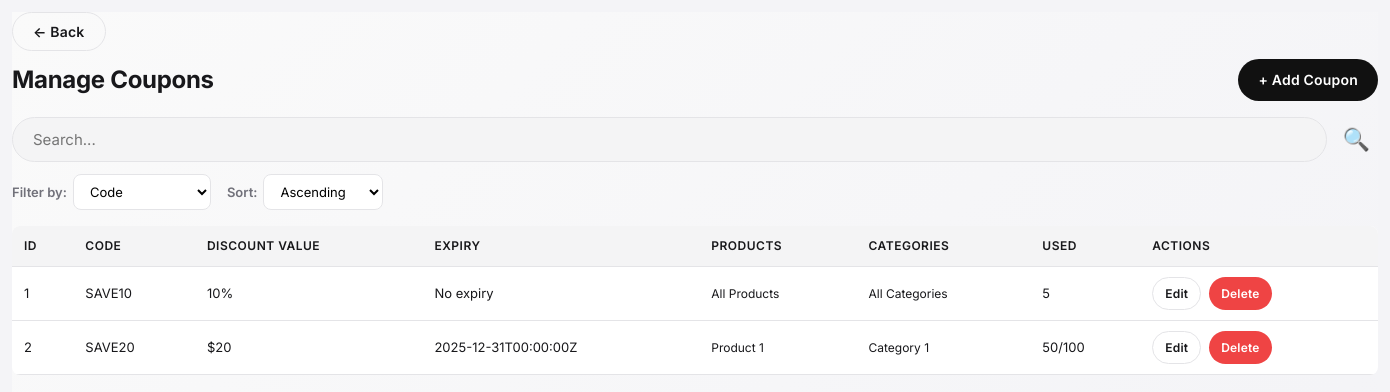
Test case: AdminCoupons › Search › should filter coupons by search term
In the field with placeholder "Search...": point(669, 140) 12,117 -> 1326,162, type "SAVE10"
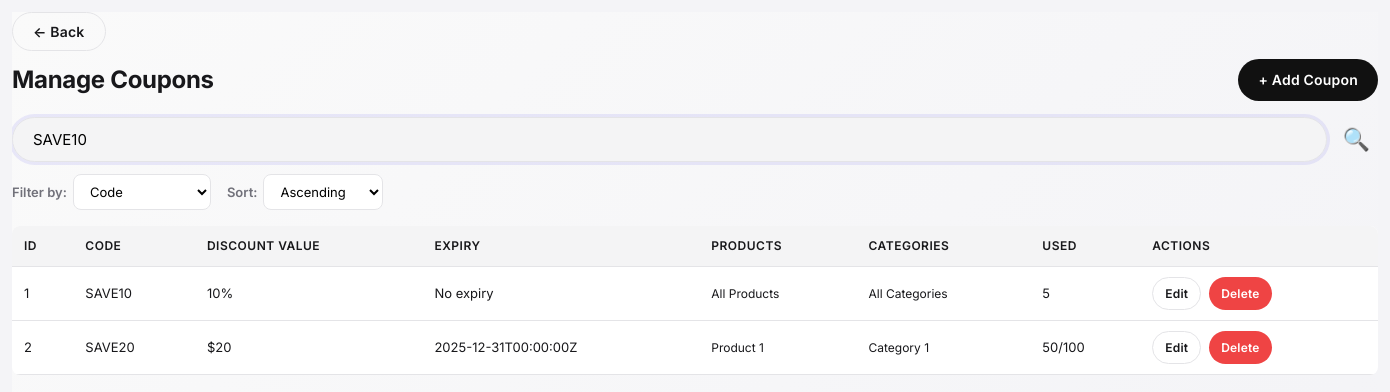
Click the button "🔍": point(1356, 140) 1334,117 -> 1378,162
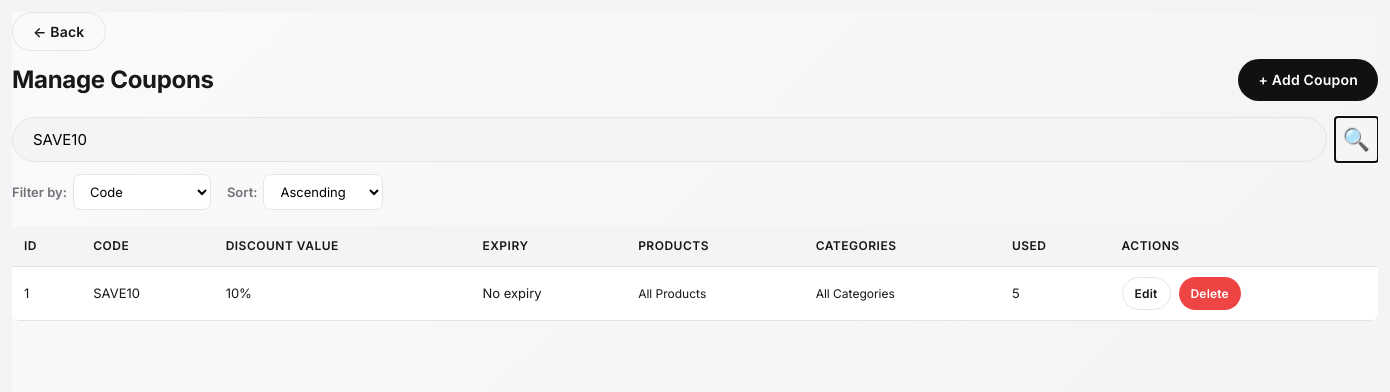
Check: the link "SAVE10" is shown, box 93,285 -> 140,301
Check: the link "SAVE20" is gone
